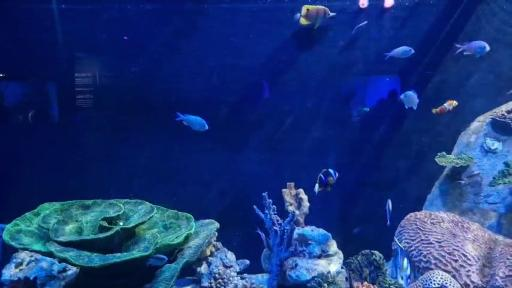Fish: (295, 5, 336, 28), (392, 238, 411, 287), (314, 169, 338, 194), (176, 113, 208, 131), (455, 41, 490, 56), (385, 47, 414, 59), (400, 91, 419, 109), (432, 101, 458, 114), (386, 199, 392, 226)
